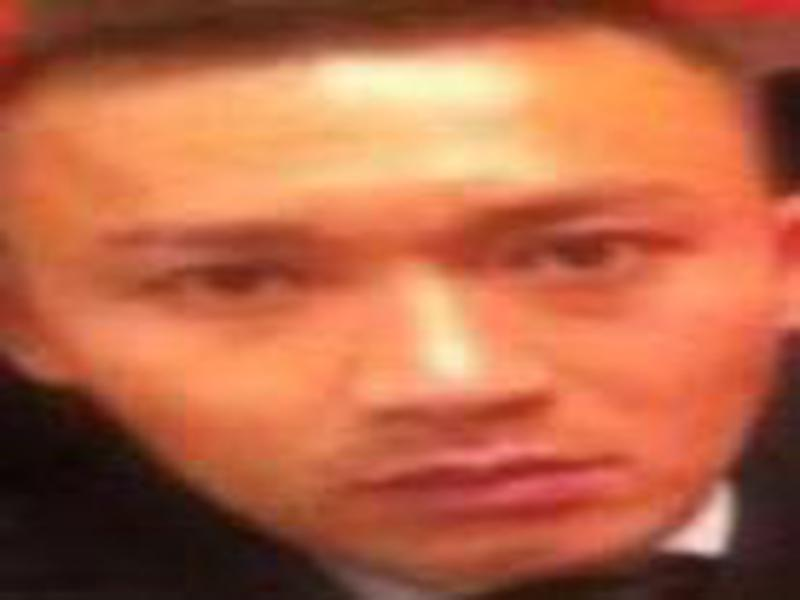without_mask: (4, 65, 768, 585)
